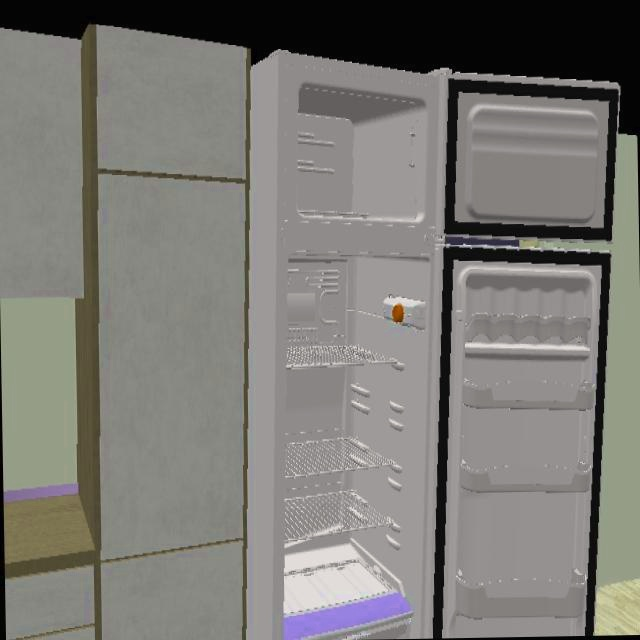cabinet: (0, 25, 247, 640)
fridge: (247, 50, 617, 637)
